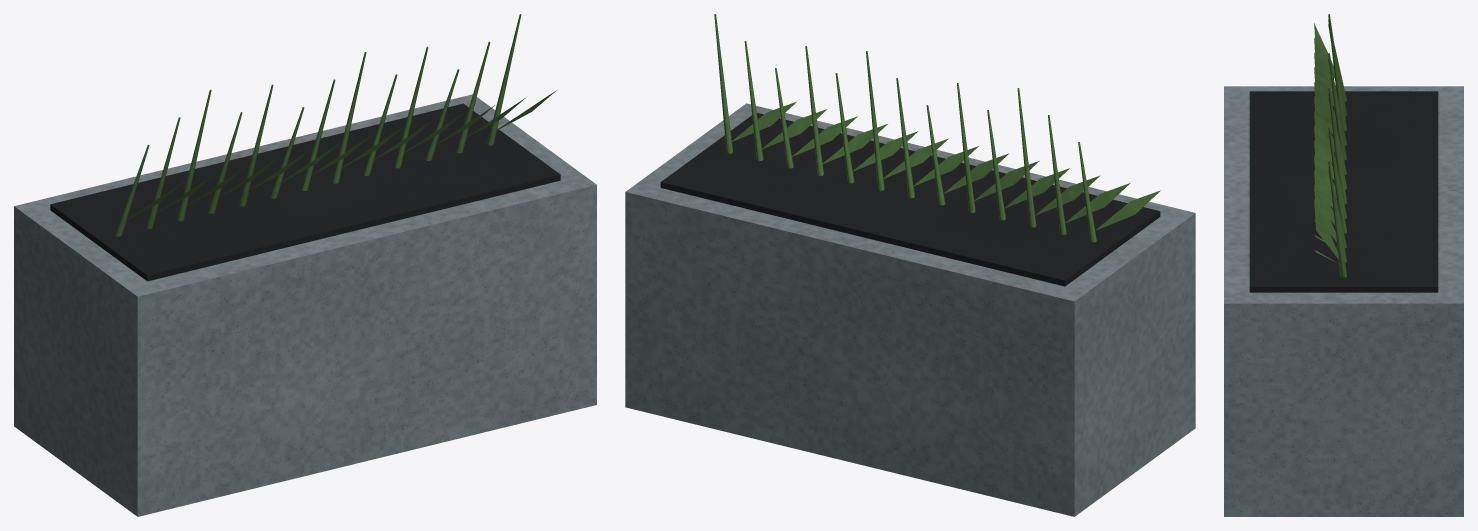
The model's file is planter.glb.
3 views of the same model, side by side, from view 1: azimuth 30°, elevation 25°; view 2: azimuth 150°, elevation 25°; view 3: azimuth 270°, elevation 25° (orthographic). The views are drawn at different scales.
Parts seen in each view (by area): view 1: planter; view 2: planter; view 3: planter.
Boxes of the visible parts, x1,y1,x2,y2 form: planter: (14,14,596,516); planter: (625,14,1195,516); planter: (1224,14,1463,516).
Size of the model in its own units: 1.25 by 0.8904 by 0.56.
3 materials, 3 textured.
